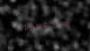eight: (66, 18, 72, 29)
four: (38, 20, 44, 31), (59, 19, 65, 29)
nine: (31, 20, 37, 31)
one: (17, 21, 23, 32), (24, 21, 30, 31)
seven: (52, 19, 58, 30)
six: (45, 19, 51, 30)
